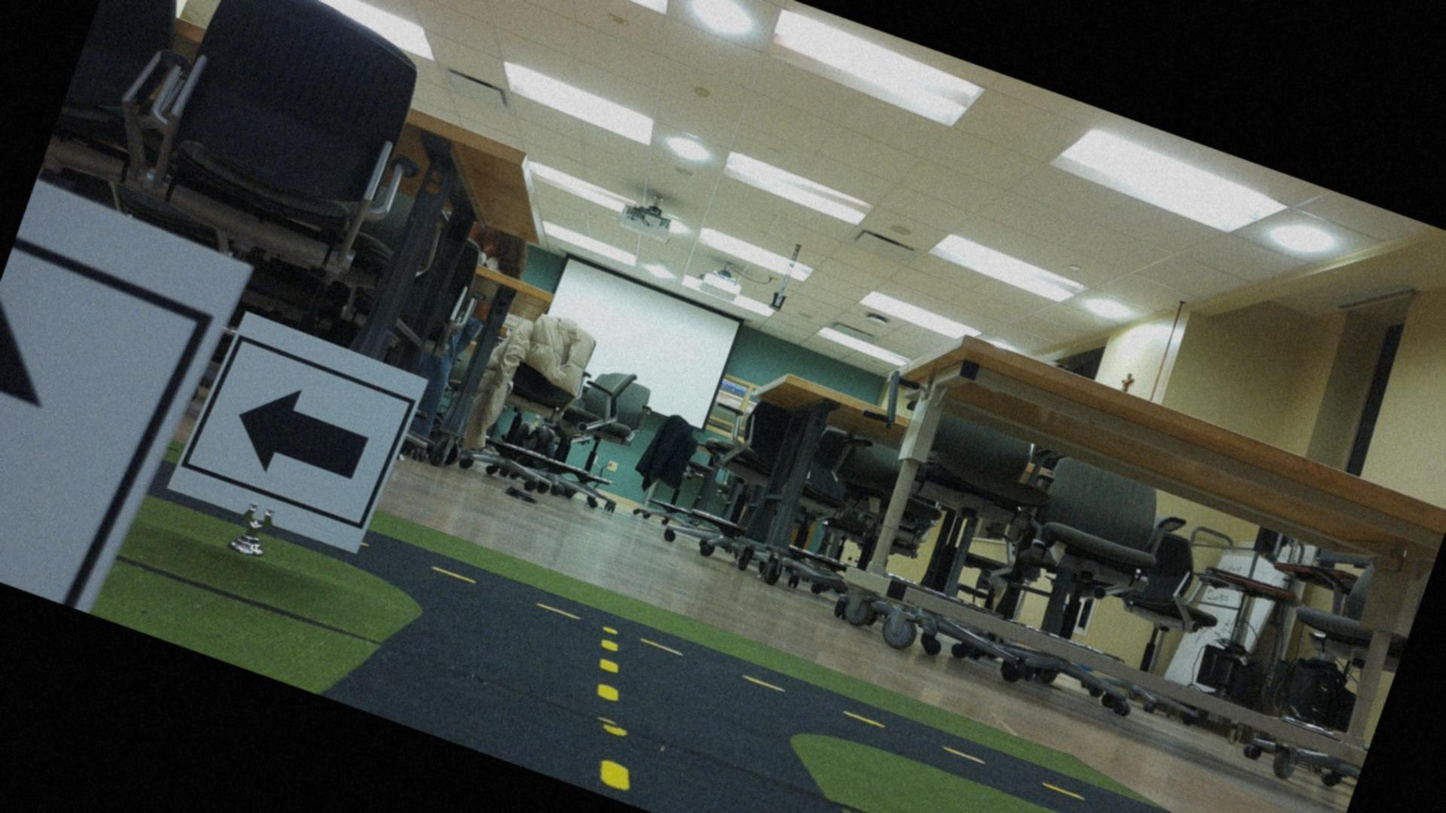turnleft: (178, 312, 419, 550)
yellowline: (558, 636, 673, 793)
